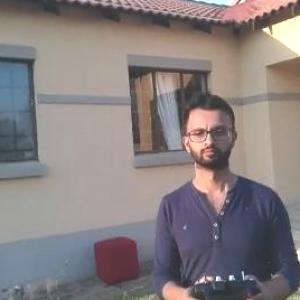follow: (150, 86, 299, 299)
null: (1, 260, 76, 299)
